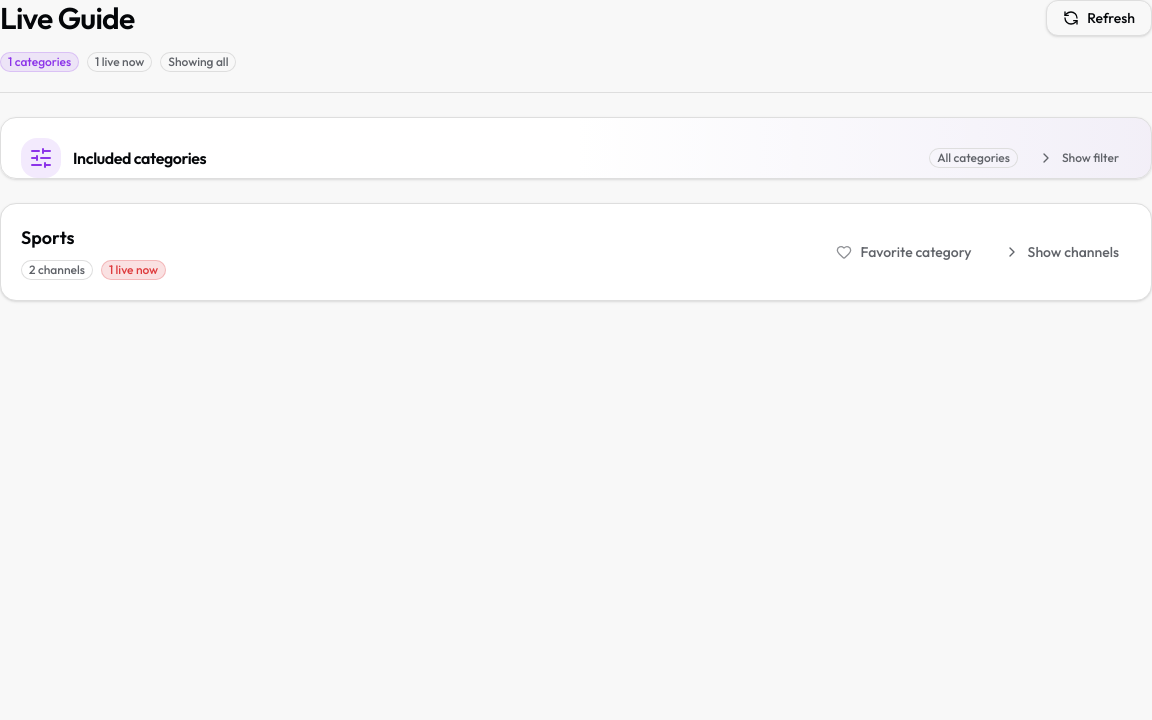
Scenario: GuidePage › starts with the filter panel collapsed and can expand it
expect the field with placeholder "filter categories" is not shown: met
Click the button "Show filter" at (1078, 158), box [1026, 142, 1131, 174]
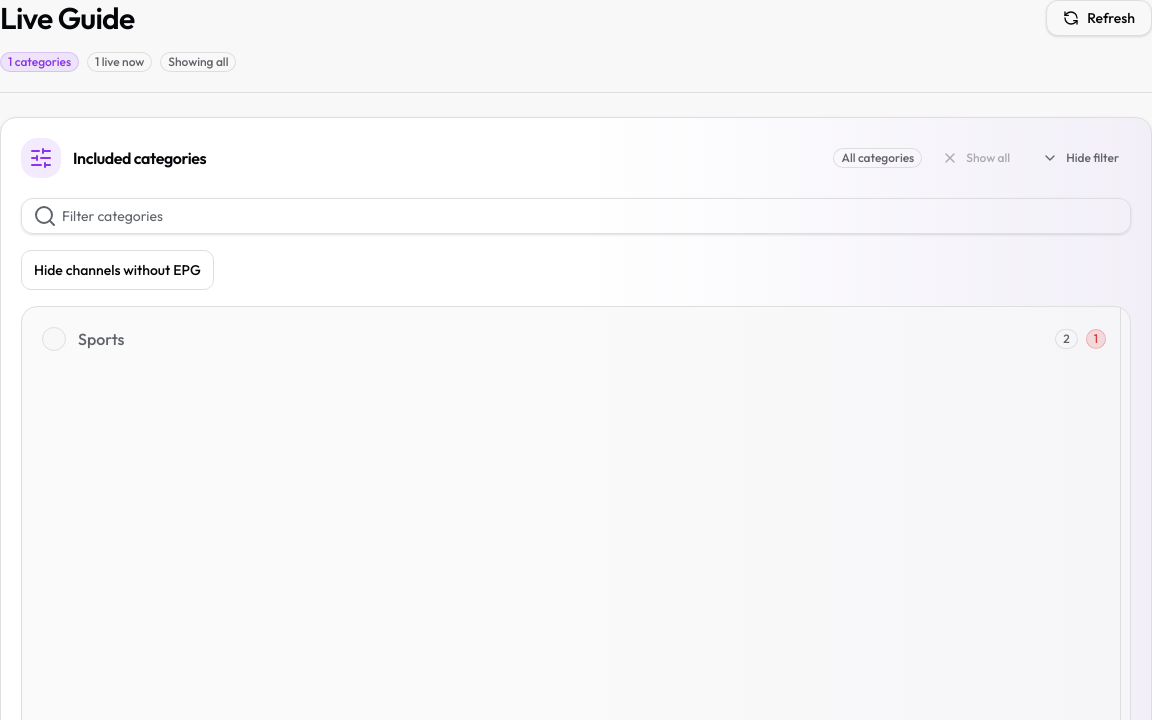
expect the field with placeholder "Filter categories" is shown: met, box [21, 198, 1131, 234]
expect the button "Hide filter" is shown: met, box [1030, 142, 1131, 174]
